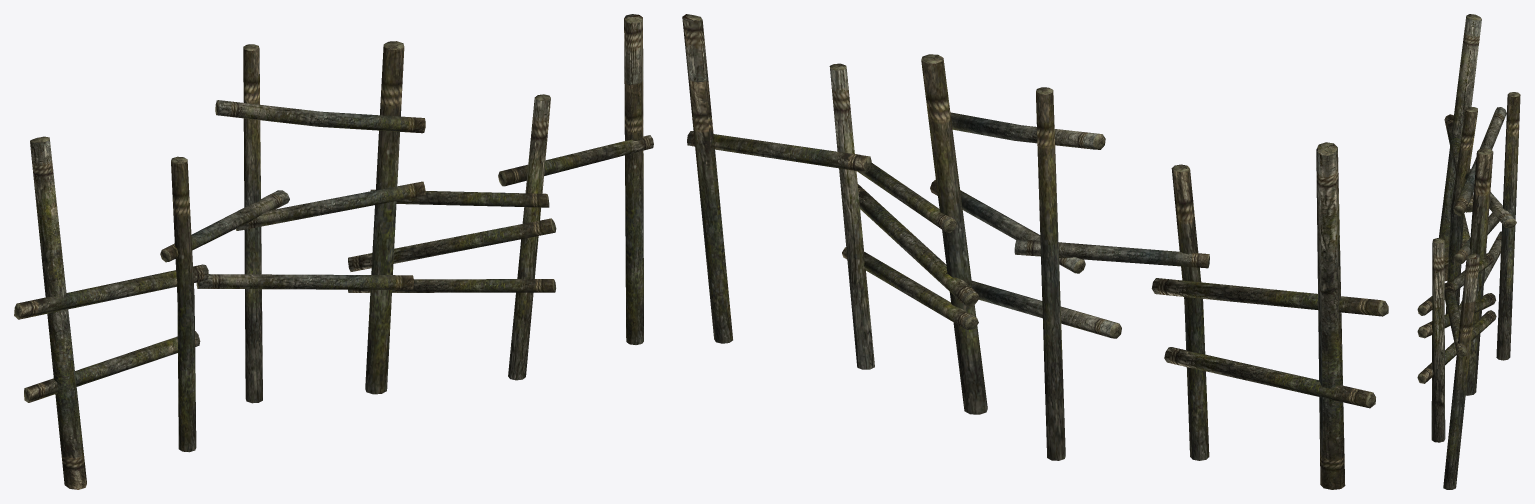
The model's file is camp_woodhut_fence00.fbx.
The picture shows the model from 3 angles, left to right: view 1: azimuth 30°, elevation 25°; view 2: azimuth 150°, elevation 25°; view 3: azimuth 270°, elevation 25°; orthographic projection. The views are drawn at different scales.
Parts seen in each view (by area): view 1: camp_tent_woodhut_fence00; view 2: camp_tent_woodhut_fence00; view 3: camp_tent_woodhut_fence00.
Part boxes in pixels (<box>): camp_tent_woodhut_fence00: <box>14,14,653,489</box>; camp_tent_woodhut_fence00: <box>682,14,1388,489</box>; camp_tent_woodhut_fence00: <box>1417,14,1520,489</box>.
Size of the model in its own units: 15.14 by 7.86 by 2.75.
